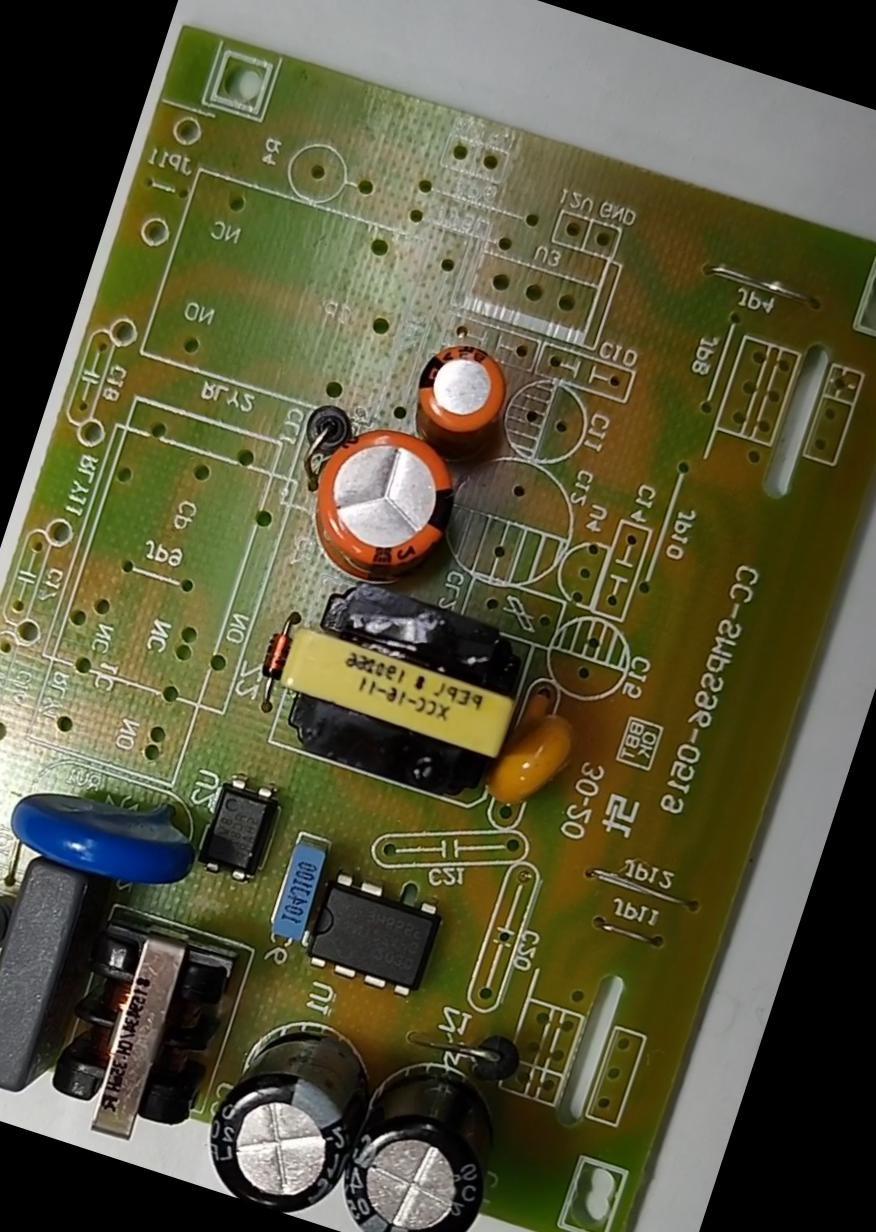Cap1: (286, 399, 486, 601)
Cap2: (383, 322, 533, 472)
Cap3: (182, 988, 402, 1230)
Cap4: (314, 1022, 533, 1231)
MOSFET: (286, 858, 458, 1013)
Mov: (0, 745, 229, 914)
Resistor: (0, 864, 26, 972)
Transformer: (249, 558, 553, 824), (27, 900, 256, 1166)
